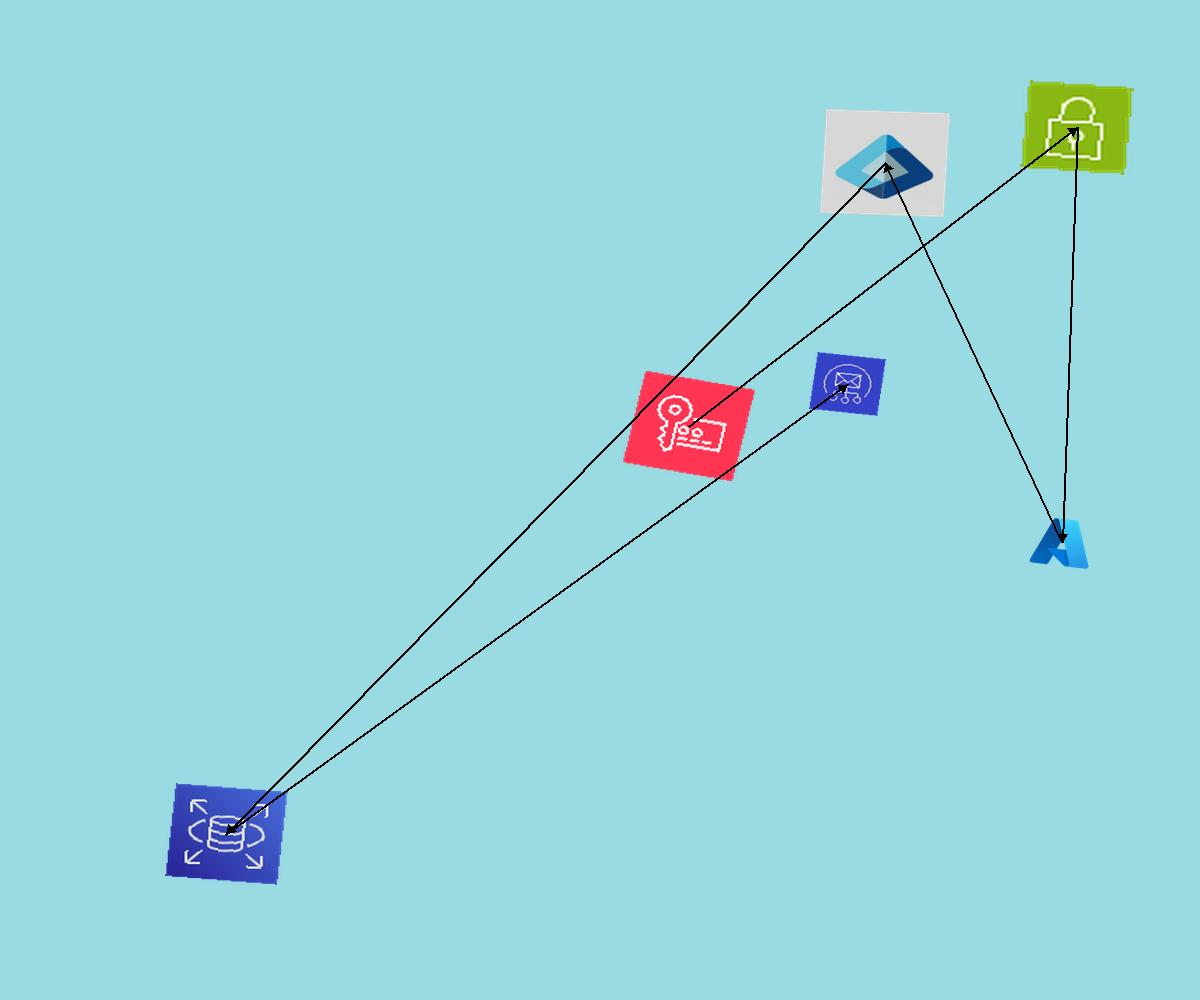AWS-Key-Management-Service: (622, 370, 756, 482)
AWS-Public-subnet: (1020, 80, 1134, 175)
AWS-RDS: (165, 783, 288, 885)
AWS-Simple-Email-Service: (809, 352, 886, 416)
Azure_microsoft_entra: (820, 109, 950, 217)
Azure_services: (1026, 512, 1099, 573)
